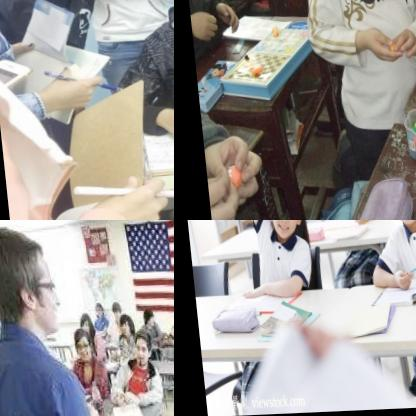head: (0, 220, 61, 334), (67, 326, 92, 362), (257, 220, 302, 240), (126, 333, 148, 363), (112, 313, 128, 340), (136, 305, 152, 330), (75, 311, 89, 335), (106, 298, 119, 322), (88, 301, 101, 321), (166, 305, 174, 328)
